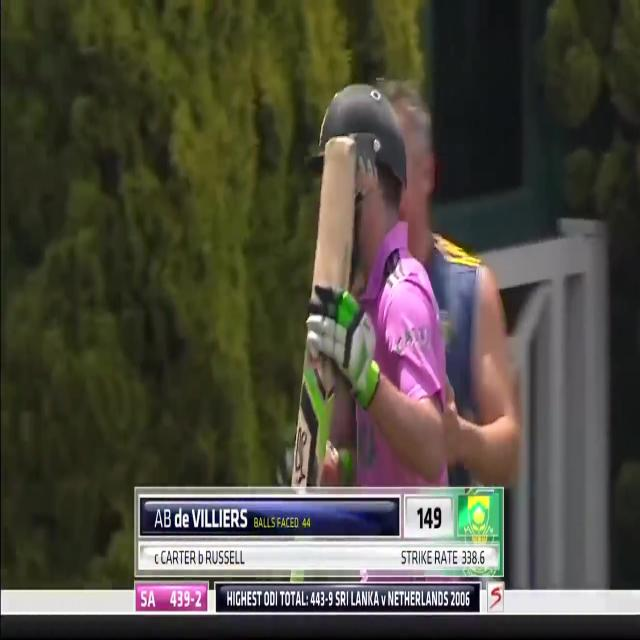Ball: (298, 78, 533, 491)
